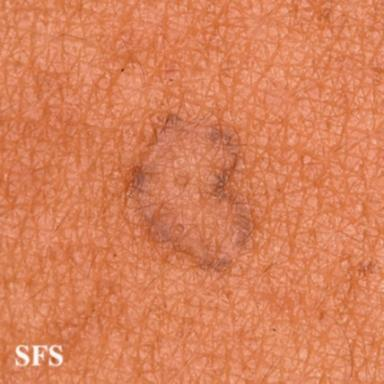Porokeratosis: (126, 115, 251, 269)
